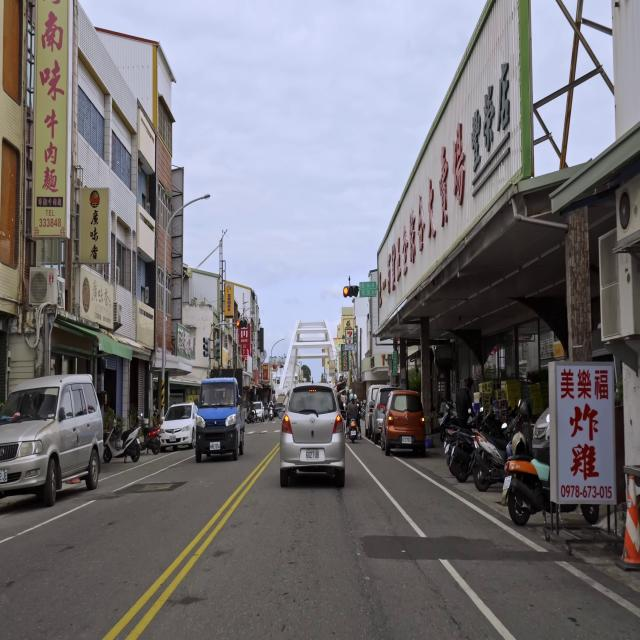red light: (343, 285, 359, 297), (236, 319, 247, 328)
